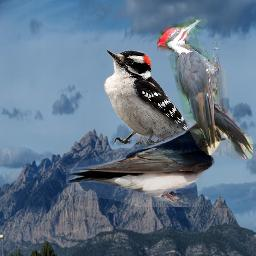Swallow: (66, 119, 226, 207)
Woodpecker: (157, 19, 253, 159), (103, 50, 205, 147)
